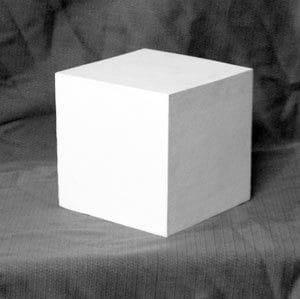cubos: (51, 42, 262, 239)
